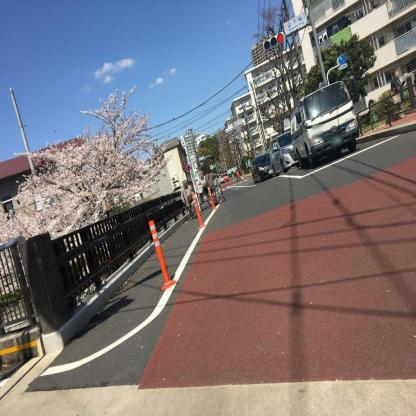Someiyoshino: (0, 69, 181, 299)
